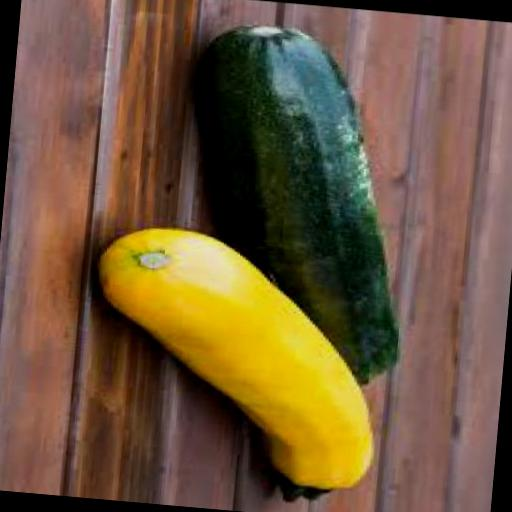biodegradable: (169, 19, 430, 390), (80, 224, 397, 510)
